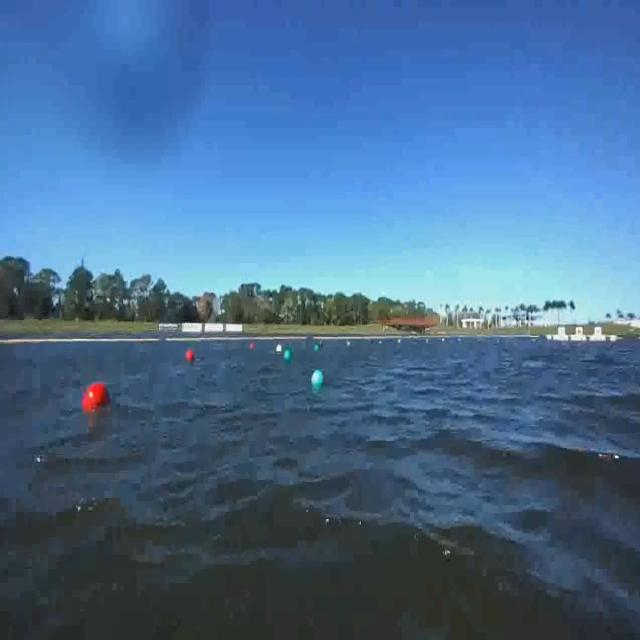green-buoy: (310, 367, 324, 389)
red-buoy: (74, 377, 116, 417)
